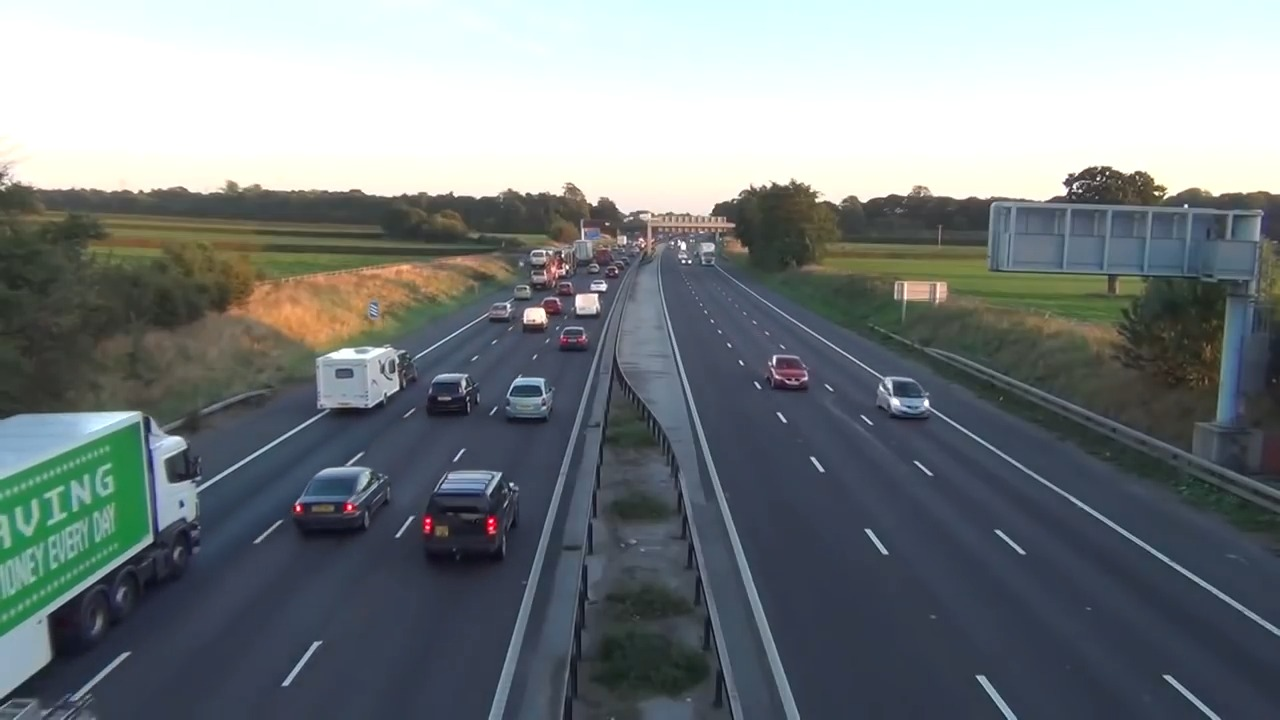truck: (309, 339, 416, 416)
